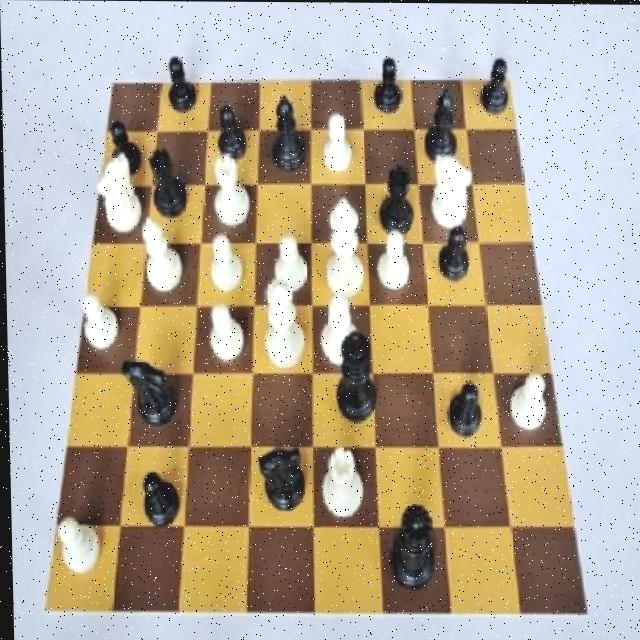bishop: (417, 82, 462, 170), (262, 94, 304, 178)
black-bishop: (332, 314, 378, 426)
black-king: (118, 354, 182, 432), (255, 440, 310, 525)
black-knight: (133, 462, 184, 540), (440, 369, 486, 447), (156, 51, 202, 126), (472, 46, 517, 122), (367, 42, 406, 125), (208, 100, 255, 167), (105, 111, 148, 183), (431, 224, 473, 295)
black-pawn: (386, 496, 436, 596)
black-queen: (147, 145, 194, 232), (375, 159, 417, 242)
black-rook: (134, 205, 185, 307), (314, 286, 360, 376)
white-bishop: (319, 194, 369, 307)
white-king: (96, 151, 145, 244), (426, 148, 472, 243)
white-knight: (55, 508, 107, 590), (504, 358, 548, 441), (316, 103, 361, 183), (205, 297, 251, 374), (370, 219, 414, 298), (76, 290, 123, 359), (202, 232, 249, 301), (267, 223, 308, 301)
white-pawn: (253, 277, 306, 381)
white-queen: (209, 146, 256, 235), (318, 440, 365, 525)
